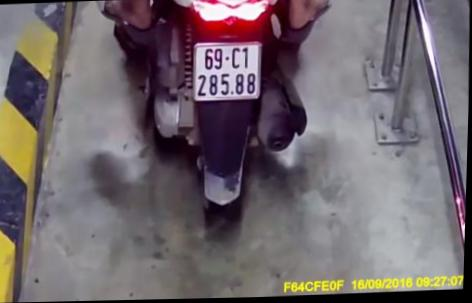LP: (189, 39, 264, 105)
